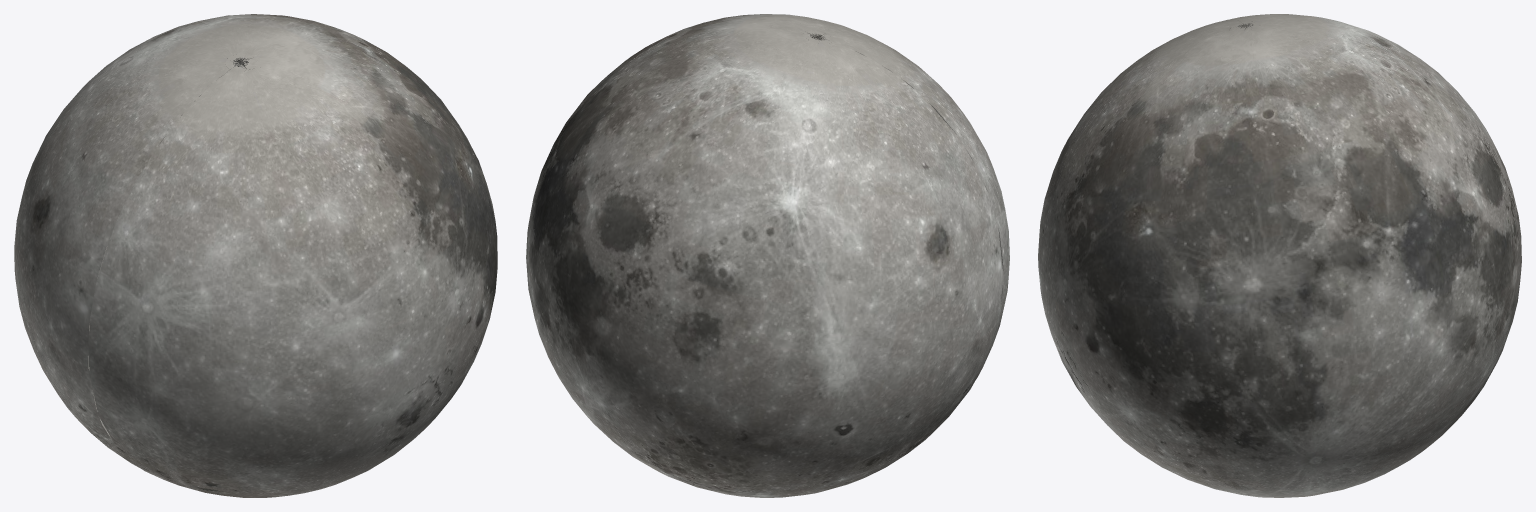
File: moon.gltf
3 views of the same model, side by side, from view 1: azimuth 30°, elevation 25°; view 2: azimuth 150°, elevation 25°; view 3: azimuth 270°, elevation 25° (orthographic).
Visible parts, largest first — view 1: Moon; view 2: Moon; view 3: Moon.
Part boxes in pixels (x1,y1,x2,y2): Moon: [14, 14, 497, 497]; Moon: [526, 14, 1009, 497]; Moon: [1038, 14, 1521, 497].
Size of the model in its own units: 1.44 by 1.44 by 1.44.
Materials: 1 (1 with a texture image).
